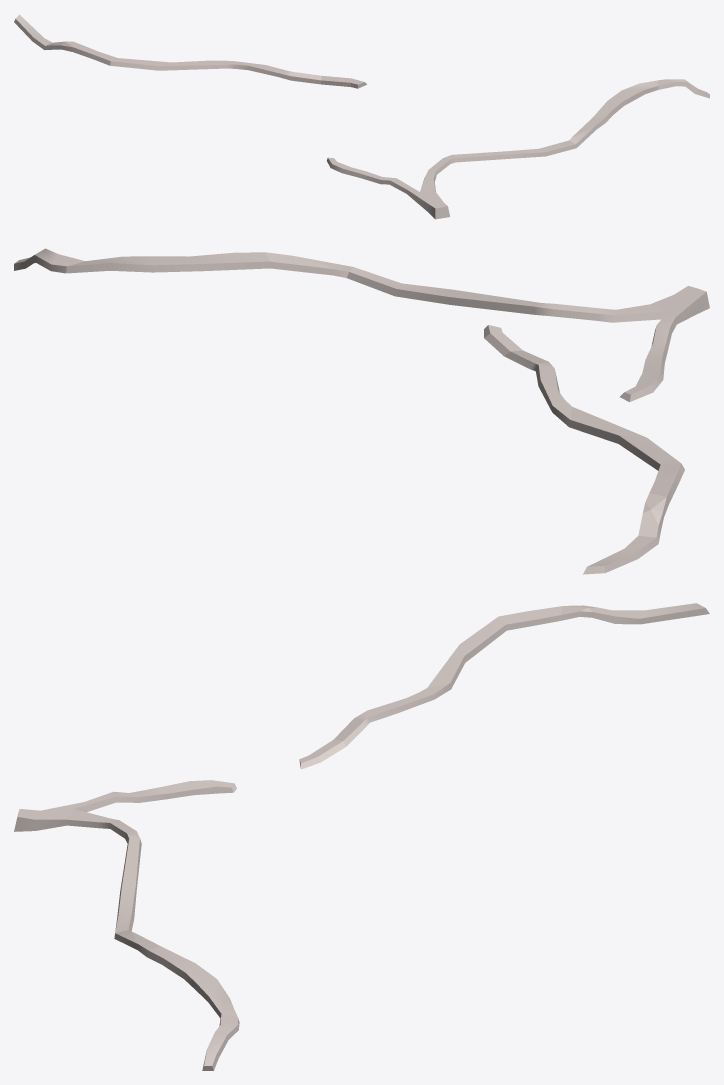
File: ground.087.fbx
The picture shows the model from 3 angles, top to bottom: view 1: azimuth 30°, elevation 25°; view 2: azimuth 150°, elevation 25°; view 3: azimuth 270°, elevation 25°; orthographic projection. The views are drawn at different scales.
Visible parts, largest first — view 1: ground_087; view 2: ground_087; view 3: ground_087.
Part boxes in pixels (<box>): ground_087: <box>14,14,709,219</box>; ground_087: <box>14,248,709,574</box>; ground_087: <box>14,603,709,1070</box>.
Bounding box in the file's own units: 19288 × 2885 × 15819.
